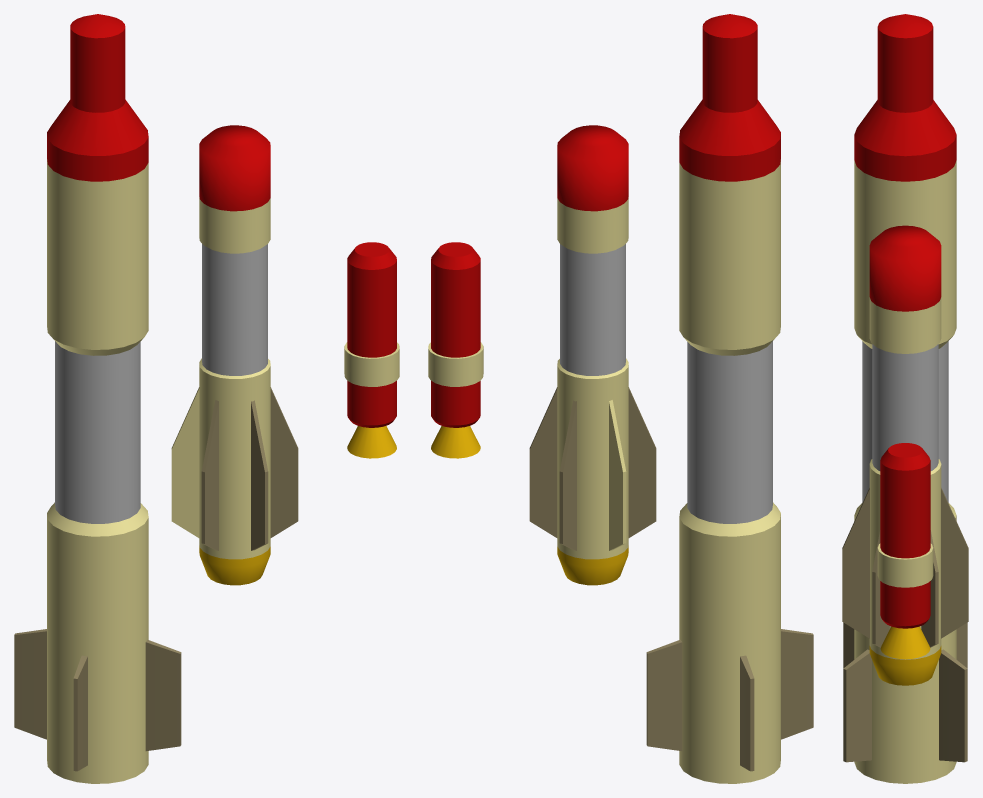
The model's file is MechMissiles.fbx.
The picture shows the model from 3 angles, left to right: view 1: azimuth 30°, elevation 25°; view 2: azimuth 150°, elevation 25°; view 3: azimuth 270°, elevation 25°; orthographic projection.
Parts seen in each view (by area): view 1: pasted__pCylinder6, pasted__group14_pCube16, pasted__pCylinder55, pasted__pCube2, pasted__pCube3; view 2: pasted__pCylinder6, pasted__group14_pCube16, pasted__pCylinder55, pasted__pCube3, pasted__pCube2; view 3: pasted__pCylinder6, pasted__group14_pCube16, pasted__pCylinder55, pasted__pCube2, pasted__pCube3.
Part boxes in pixels (x1,y1,x2,y2): pasted__pCylinder6: (47, 14, 148, 783); pasted__group14_pCube16: (171, 125, 298, 585); pasted__pCylinder55: (344, 242, 399, 458); pasted__pCube2: (14, 629, 181, 751); pasted__pCube3: (73, 655, 87, 771); pasted__pCylinder6: (679, 14, 780, 783); pasted__group14_pCube16: (529, 125, 656, 585); pasted__pCylinder55: (428, 242, 483, 458); pasted__pCube3: (646, 629, 813, 751); pasted__pCube2: (740, 655, 754, 771); pasted__pCylinder6: (854, 14, 956, 783); pasted__group14_pCube16: (842, 225, 968, 685); pasted__pCylinder55: (877, 443, 933, 659); pasted__pCube2: (843, 622, 967, 762); pasted__pCube3: (843, 622, 967, 762).
Bounding box in the file's own units: 5.14 × 10.43 × 1.6.
